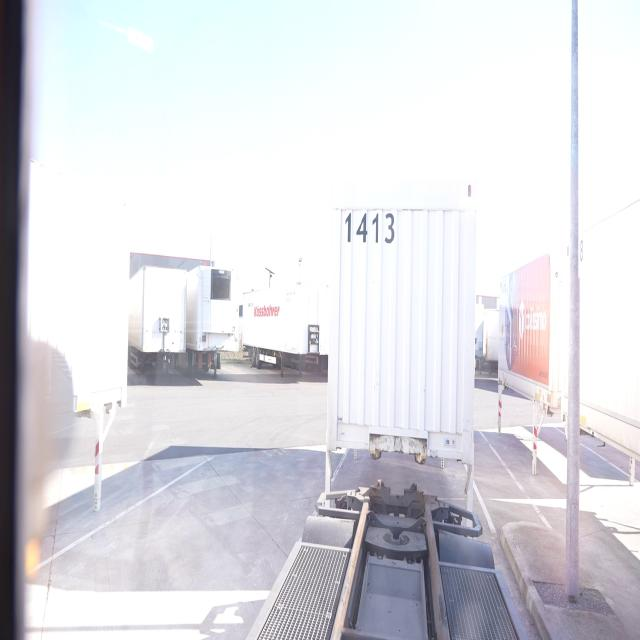Code: (344, 205, 396, 250)
